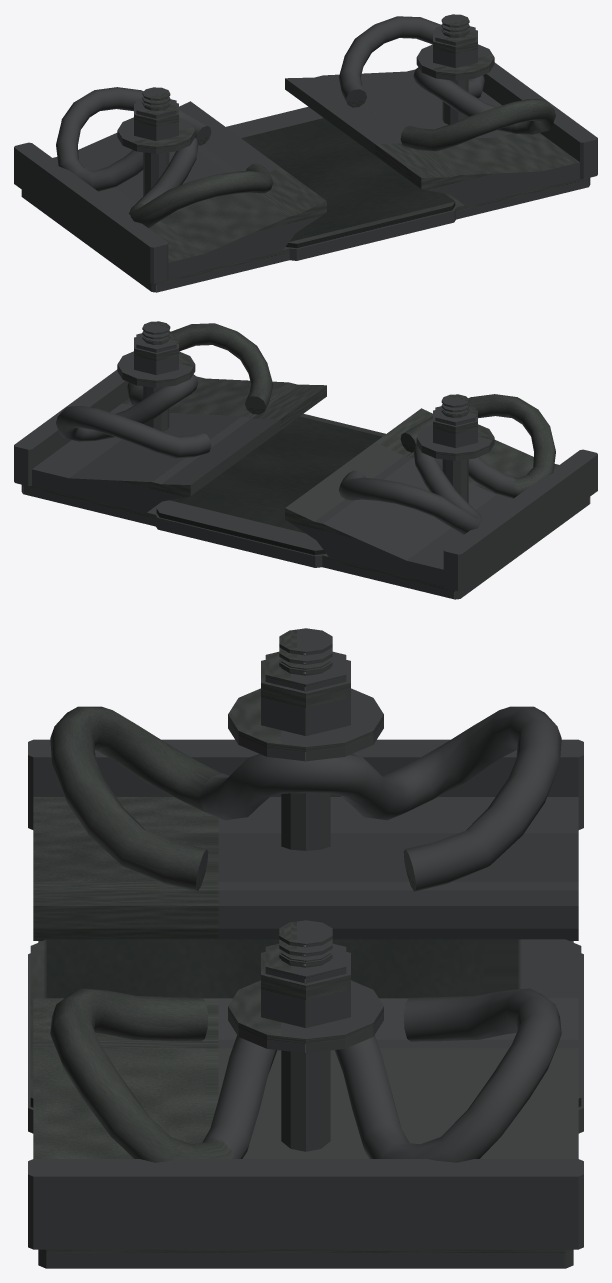
File: fastener.obj
3 renders of one model, top to bottom at view 1: azimuth 30°, elevation 25°; view 2: azimuth 150°, elevation 25°; view 3: azimuth 270°, elevation 25°, orthographic. The views are drawn at different scales.
Parts seen in each view (by area): view 1: fastener; view 2: fastener; view 3: fastener.
Part boxes in pixels (x1=…): fastener: x1=14, y1=14, x2=597, y2=292; fastener: x1=14, y1=321, x2=597, y2=599; fastener: x1=28, y1=628, x2=583, y2=1268.
Bounding box in the file's own units: 0.398 × 0.1141 × 0.214.
